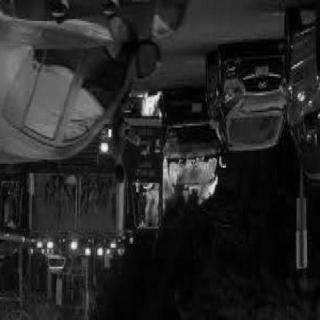Fire: (162, 157, 226, 211), (136, 184, 176, 230), (138, 93, 168, 129)
other: (26, 228, 132, 274)
